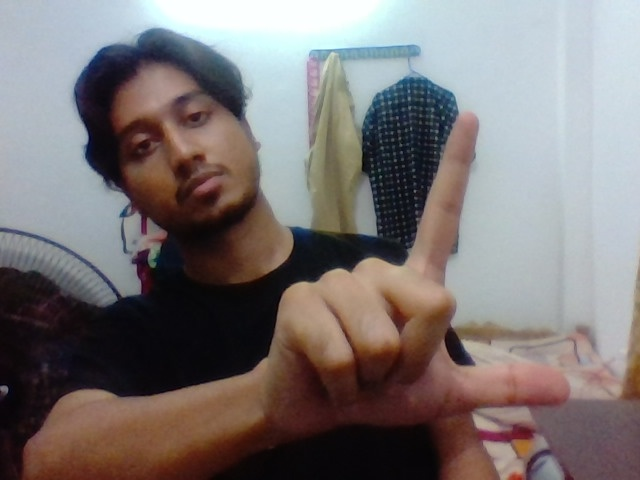L: (343, 94, 586, 411)
